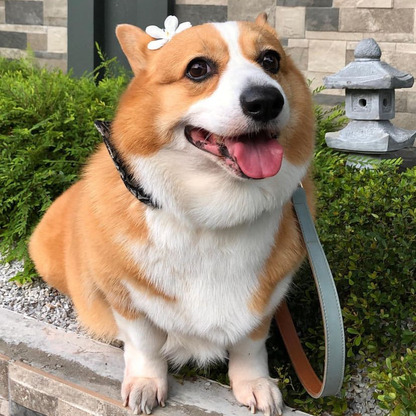Corgi: (86, 22, 331, 406)
